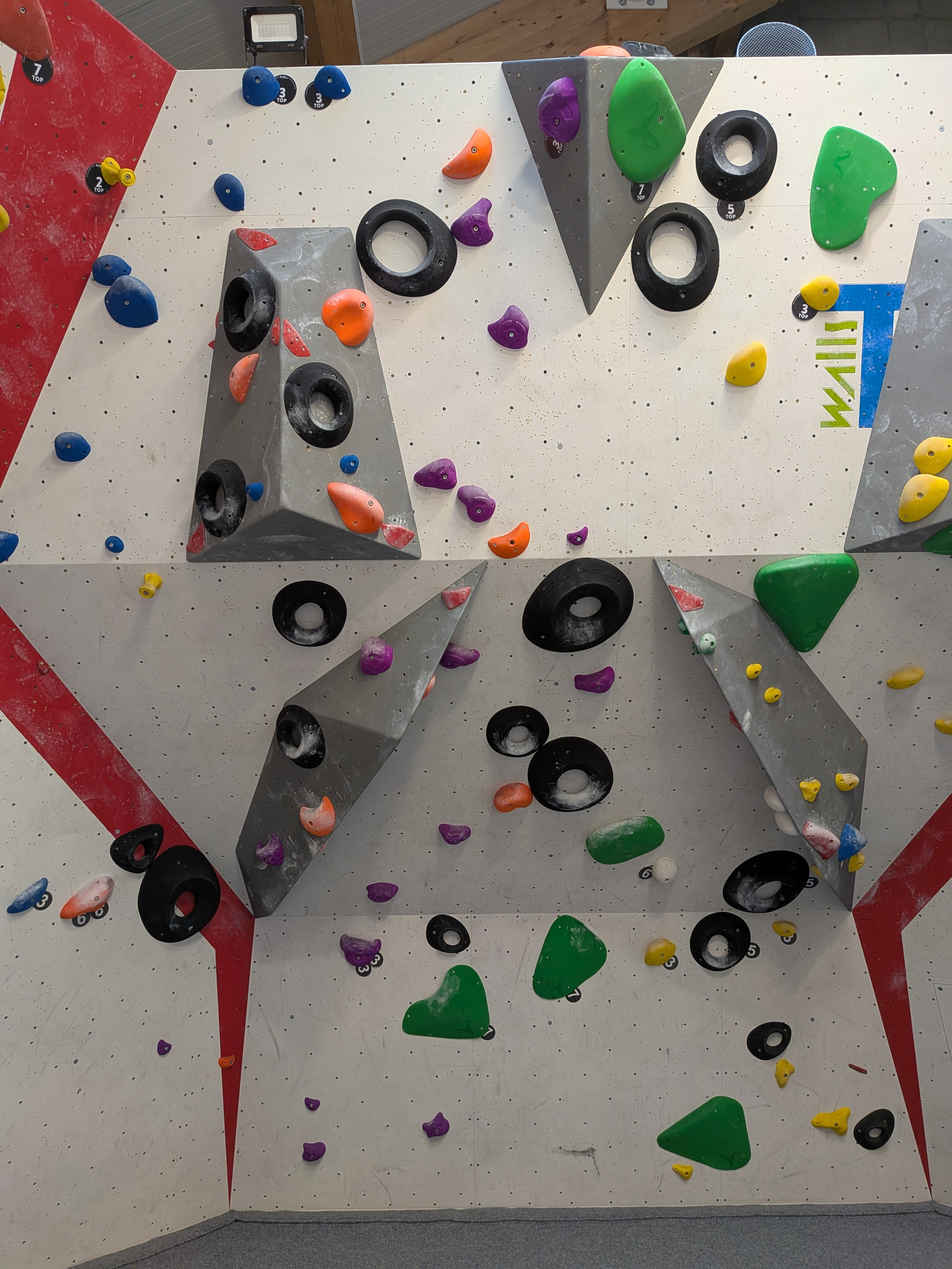hold: (810, 125, 897, 250), (522, 558, 633, 653), (754, 552, 858, 652), (356, 200, 457, 297), (608, 58, 686, 182), (631, 204, 719, 311), (138, 845, 220, 942), (696, 110, 777, 201), (658, 1096, 750, 1170), (403, 965, 490, 1039), (528, 737, 613, 812), (533, 915, 606, 999), (284, 362, 354, 448), (723, 851, 809, 913), (273, 581, 347, 646), (221, 270, 276, 353), (196, 460, 247, 537), (586, 816, 664, 864), (690, 912, 751, 970), (0, 0, 53, 62), (486, 706, 549, 757), (276, 704, 325, 768), (322, 288, 373, 346), (327, 482, 383, 534), (537, 77, 580, 143), (105, 276, 158, 327), (110, 824, 163, 873), (442, 128, 492, 179), (899, 474, 949, 522), (61, 876, 114, 917), (451, 198, 493, 247), (487, 305, 529, 350), (725, 341, 767, 386), (853, 1108, 894, 1150), (426, 914, 470, 953), (747, 1021, 791, 1060), (299, 796, 336, 838), (487, 522, 530, 558), (242, 66, 280, 106), (229, 353, 259, 403), (457, 485, 496, 523), (913, 437, 952, 474), (7, 877, 47, 913), (802, 821, 840, 858), (800, 275, 839, 311), (414, 458, 457, 489), (340, 934, 380, 966), (360, 636, 393, 674), (92, 254, 131, 286), (315, 65, 351, 99), (213, 174, 245, 211), (574, 666, 615, 694), (494, 782, 532, 812), (838, 823, 867, 861), (811, 1107, 850, 1135), (99, 157, 135, 186), (283, 319, 309, 358), (440, 642, 479, 668), (669, 584, 704, 612), (235, 228, 276, 250), (922, 525, 952, 555), (256, 834, 284, 866), (381, 523, 415, 549), (620, 41, 674, 57), (645, 938, 676, 965), (887, 667, 924, 689), (579, 44, 631, 58), (441, 586, 472, 609), (439, 823, 471, 845), (423, 1112, 449, 1138), (652, 857, 678, 883), (366, 882, 398, 903), (0, 530, 19, 563), (775, 810, 798, 836), (187, 521, 205, 554), (139, 573, 162, 598), (775, 1059, 795, 1087), (764, 786, 784, 812), (799, 779, 821, 802), (696, 632, 717, 655), (302, 1142, 326, 1161), (835, 773, 859, 792), (567, 526, 588, 546), (340, 454, 359, 474), (105, 535, 124, 555), (672, 1163, 693, 1180), (848, 851, 865, 872), (422, 673, 435, 699), (935, 717, 952, 735), (247, 482, 263, 501), (270, 316, 280, 345), (764, 687, 782, 703), (0, 205, 10, 233), (746, 663, 762, 679), (729, 711, 742, 730), (304, 1096, 320, 1111), (157, 1040, 172, 1056), (218, 1055, 235, 1069), (848, 1063, 868, 1074), (810, 865, 823, 879), (0, 69, 5, 104), (37, 660, 49, 674), (678, 619, 689, 634), (692, 642, 700, 654), (553, 594, 553, 594)
volume: (234, 559, 490, 918), (185, 227, 425, 563), (652, 556, 867, 915), (499, 56, 726, 321), (842, 218, 952, 554)
